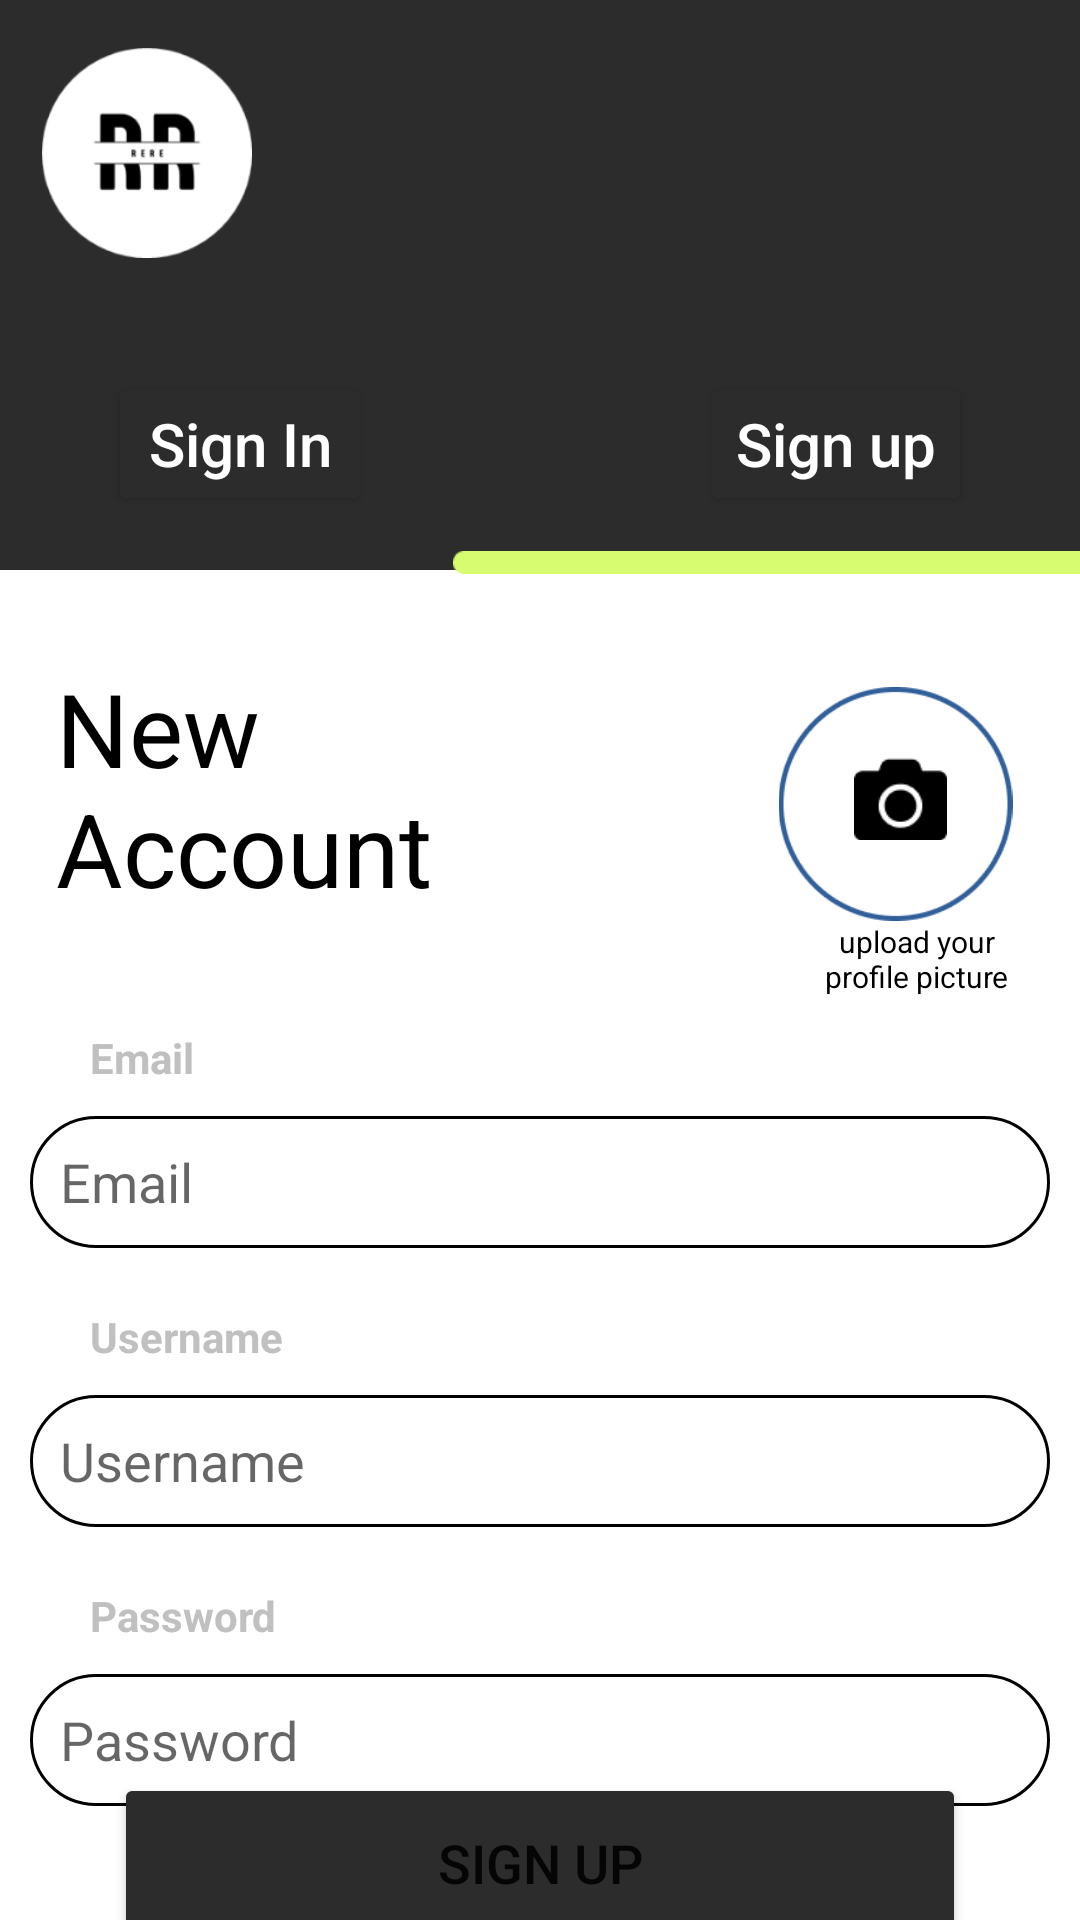

Icons on this 1080x1920 Android screen, each with its box as [left=x1, top=y1, right=x2, bottom=y2]:
mainicon: [left=42, top=48, right=252, bottom=258]
